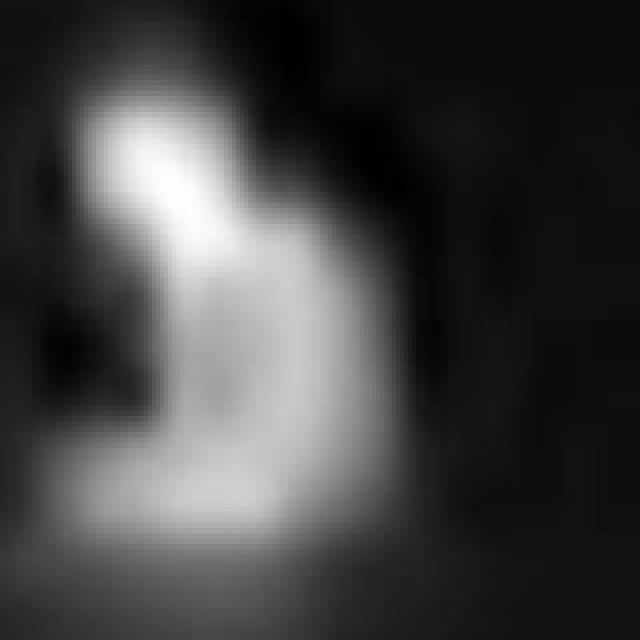person: (36, 33, 401, 571)
